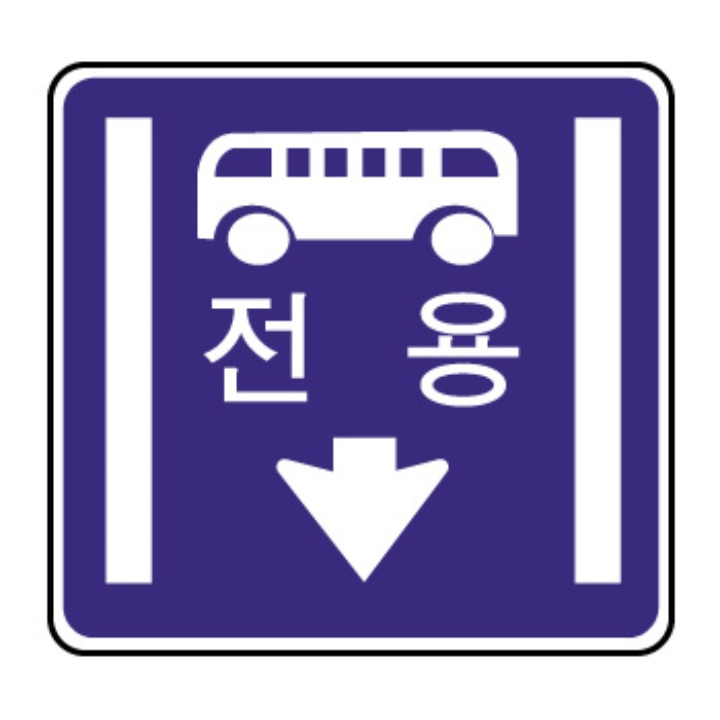bus: (180, 106, 524, 267)
